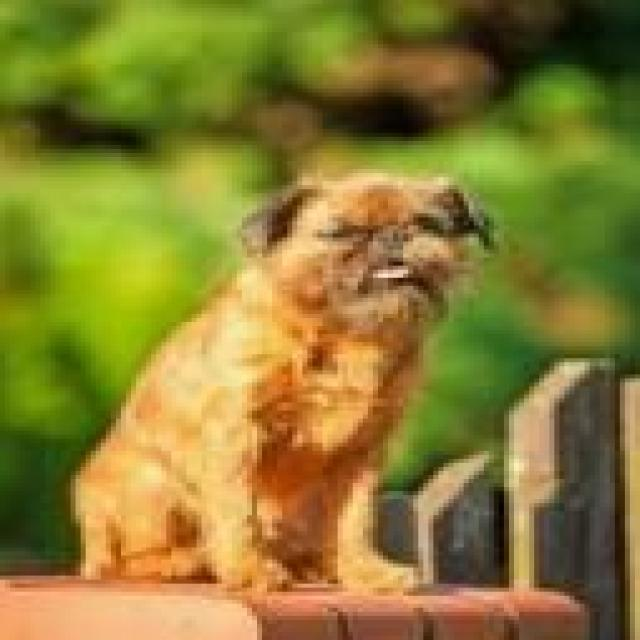Perro: (60, 169, 499, 596)
